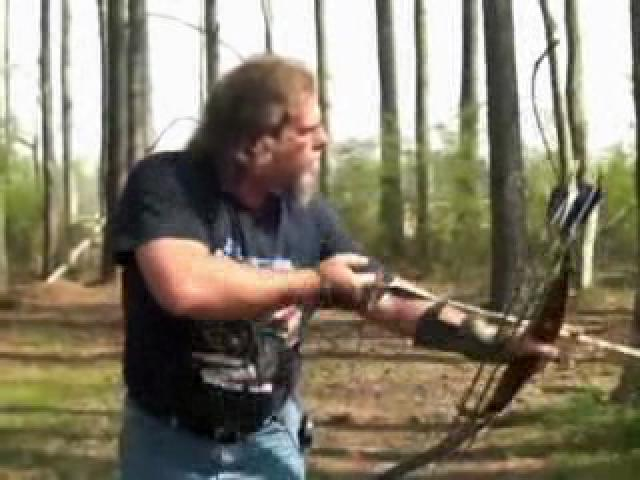I: (99, 49, 610, 410)
